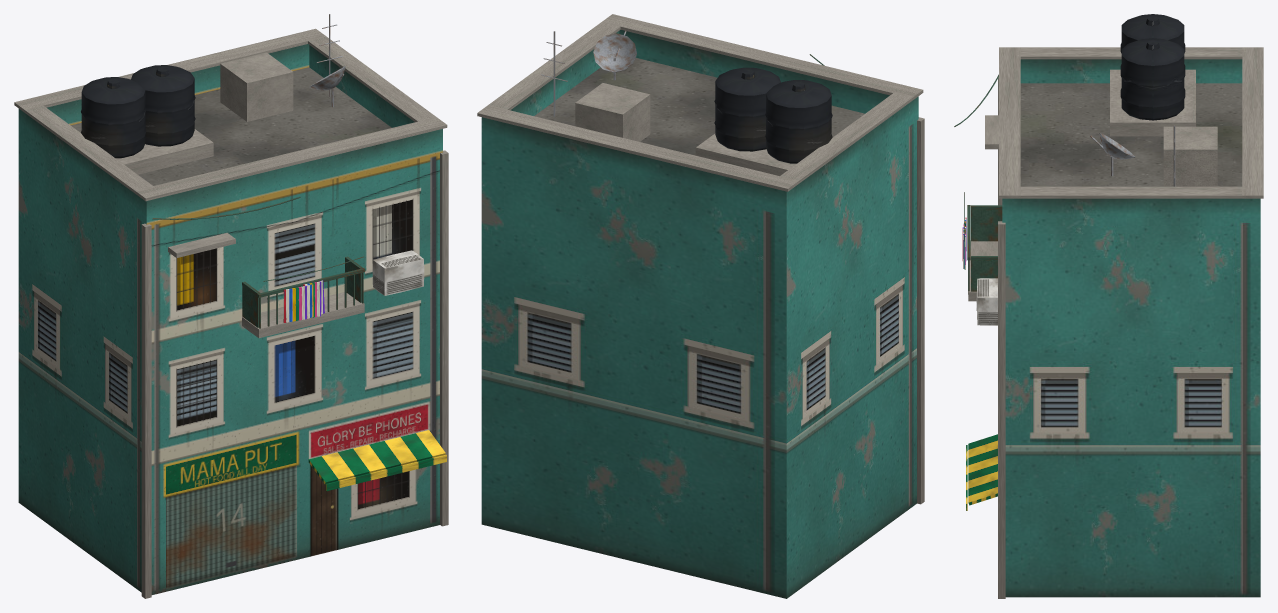
File: env_building_a.glb
3 renders of one model, left to right at view 1: azimuth 30°, elevation 25°; view 2: azimuth 150°, elevation 25°; view 3: azimuth 270°, elevation 25°, orthographic. The views are drawn at different scales.
Visible parts, largest first — view 1: env_building_a_body; view 2: env_building_a_body; view 3: env_building_a_body.
Boxes of the visible parts, left/top/right/bottom form: env_building_a_body: left=14, top=14, right=448, bottom=598; env_building_a_body: left=477, top=14, right=924, bottom=598; env_building_a_body: left=954, top=14, right=1263, bottom=598.
Size of the model in its own units: 3.28 by 4.69 by 2.89.
1 material, 1 textured.
